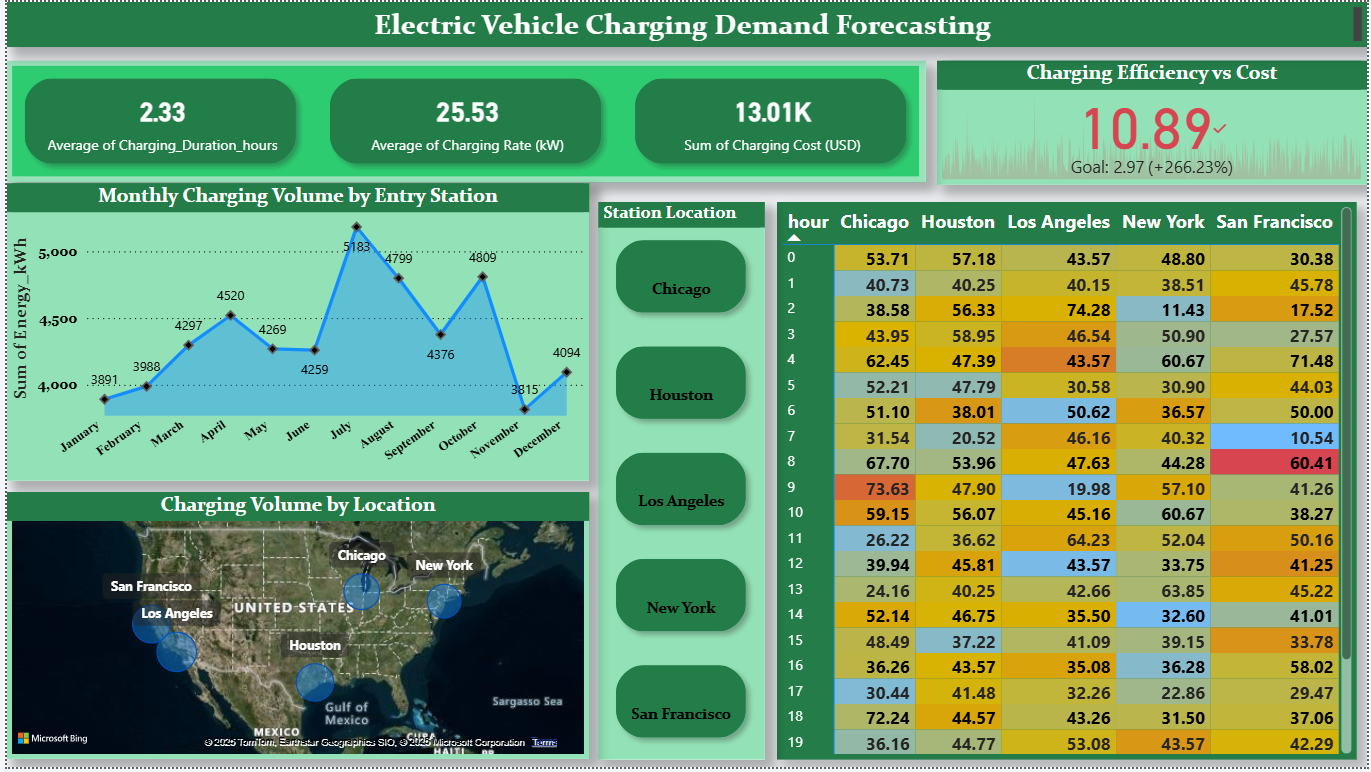

Layout of this report page (visuals, bound fields, positions):
{"tool":"powerbi","page":{"name":"Network Overview","canvas":[1280,720],"ordinal":0},"visuals":[{"type":"cardVisual","fields":{"Data":["Avg(dashboard_sessions.Charging_Duration_hours)","Avg(dashboard_sessions.Charging Rate (kW))","Sum(dashboard_sessions.Charging Cost (USD))"]},"box":[0,55.6,864.4,114.4],"z":0},{"type":"lineChart","title":"Monthly Charging Volume by Entry Station","fields":{"Category":["dashboard_network_hourly.ds.Variation.Date Hierarchy.Month"],"Y":["Sum(dashboard_sessions.Energy_kWh)"]},"box":[0,170,547.8,280],"z":1000},{"type":"pivotTable","fields":{"Values":["Median(dashboard_sessions.Energy_kWh)"],"Columns":["dashboard_sessions.Charging Station Location"],"Rows":["dashboard_sessions.hour"]},"box":[724.4,187.8,545.6,524.4],"z":2000},{"type":"map","title":"Charging Volume by Location","fields":{"Category":["dashboard_sessions.Charging Station Location"],"Size":["Sum(dashboard_sessions.Energy_kWh)"]},"box":[0,461.1,547.8,251.1],"z":3000},{"type":"kpi","title":"Charging Efficiency vs Cost ","fields":{"Goal":["Avg(dashboard_sessions.Charging_Duration_hours)"],"TrendLine":["dashboard_sessions.Charging Cost (USD)"],"Indicator":["Avg(dashboard_sessions.Charging Rate (kW))"]},"box":[875.6,55.6,404.4,116.7],"z":4000},{"type":"textbox","box":[0,0,1280,42.2],"z":5000},{"type":"advancedSlicerVisual","title":"Station Location","fields":{"Values":["dashboard_sessions.Charging Station Location"]},"box":[556.7,187.8,156.7,524.4],"z":6000}]}

Visuals, with their boxes in screenshot pixels (x1, y1, x2, y2), scaled from the page's 1280x720 canvas onto the 1371x772 screenshot:
cardVisual - Avg(dashboard_sessions.Charging_Duration_hours) x Avg(dashboard_sessions.Charging Rate (kW)): 0,60,926,182
"Monthly Charging Volume by Entry Station" lineChart: 0,182,587,482
pivotTable - Median(dashboard_sessions.Energy_kWh) x dashboard_sessions.Charging Station Location: 776,201,1360,764
"Charging Volume by Location" map: 0,494,587,764
"Charging Efficiency vs Cost " kpi: 938,60,1370,185
textbox: 0,0,1370,45
"Station Location" advancedSlicerVisual: 596,201,764,764
